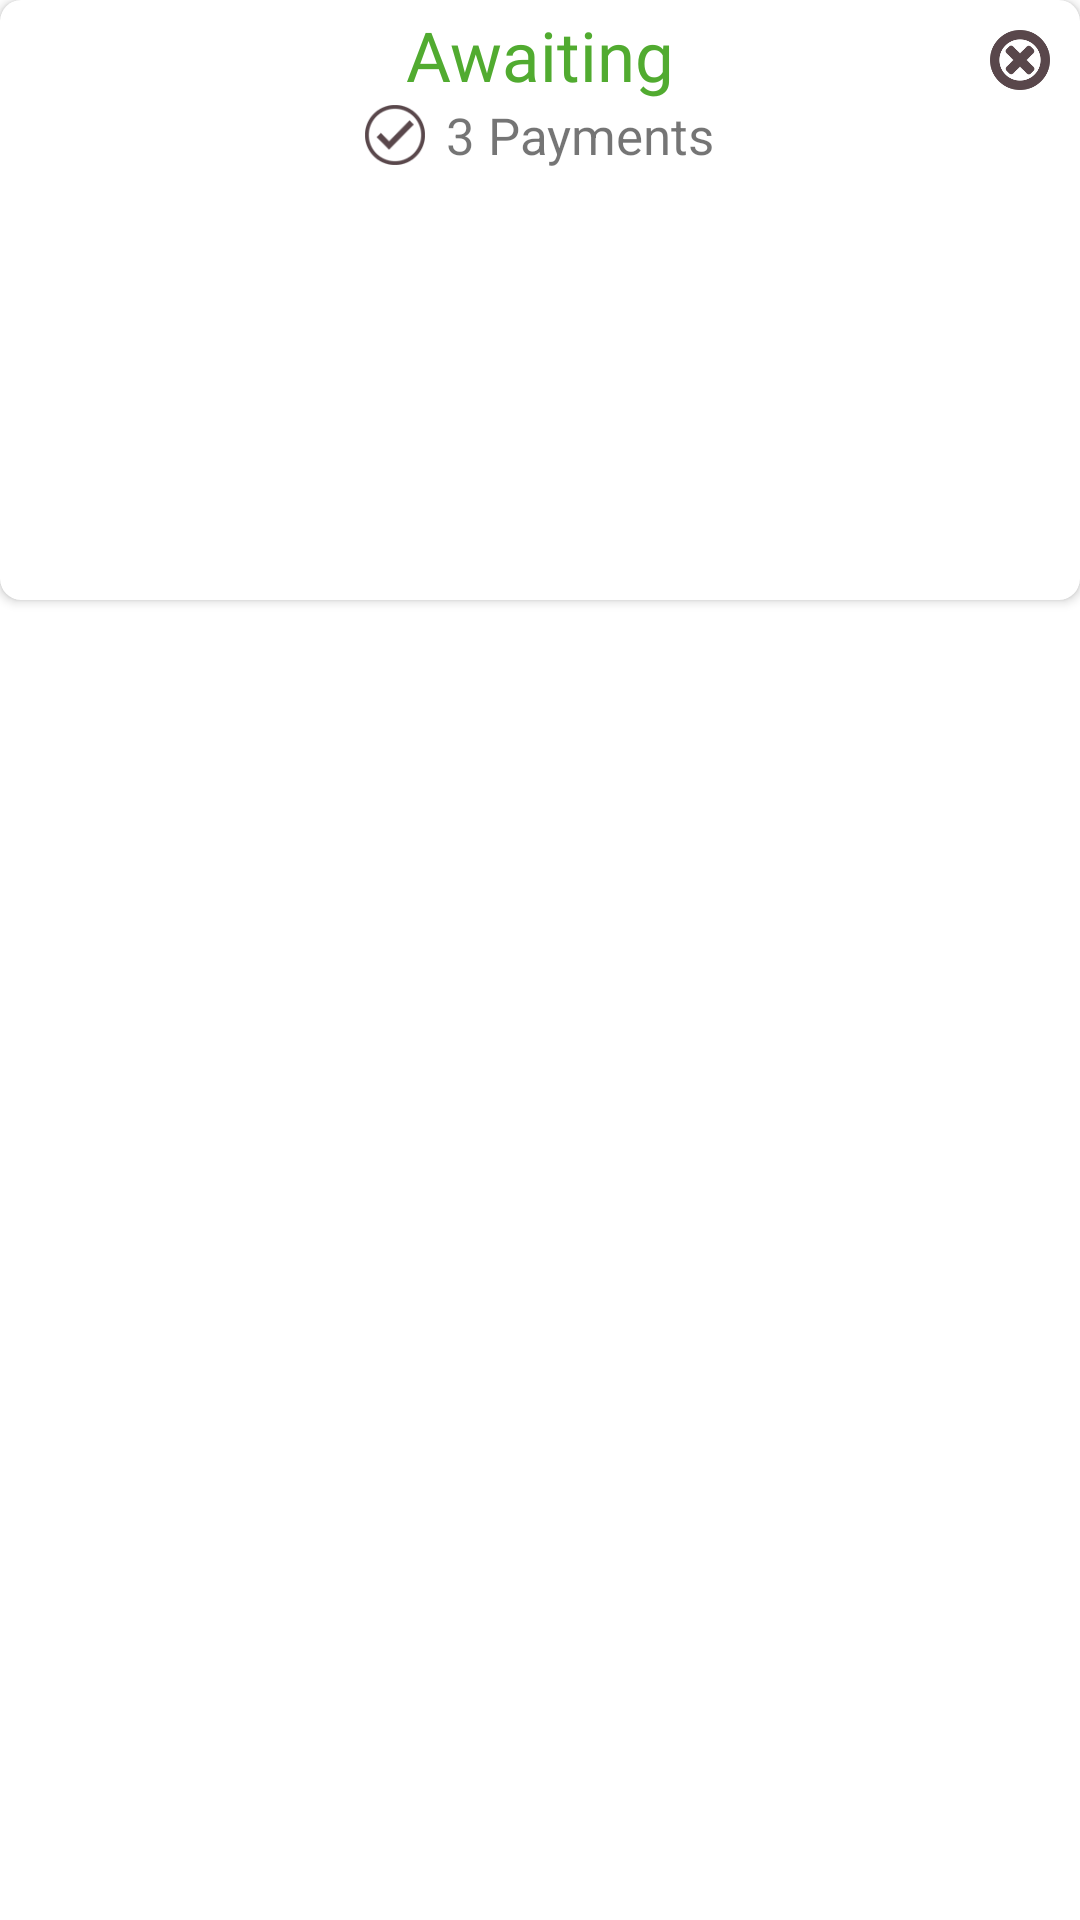

Screen size 1080*1920. Icon name, then its center in pixels as (x=x, y=y):
cross: (x=1020, y=60)
